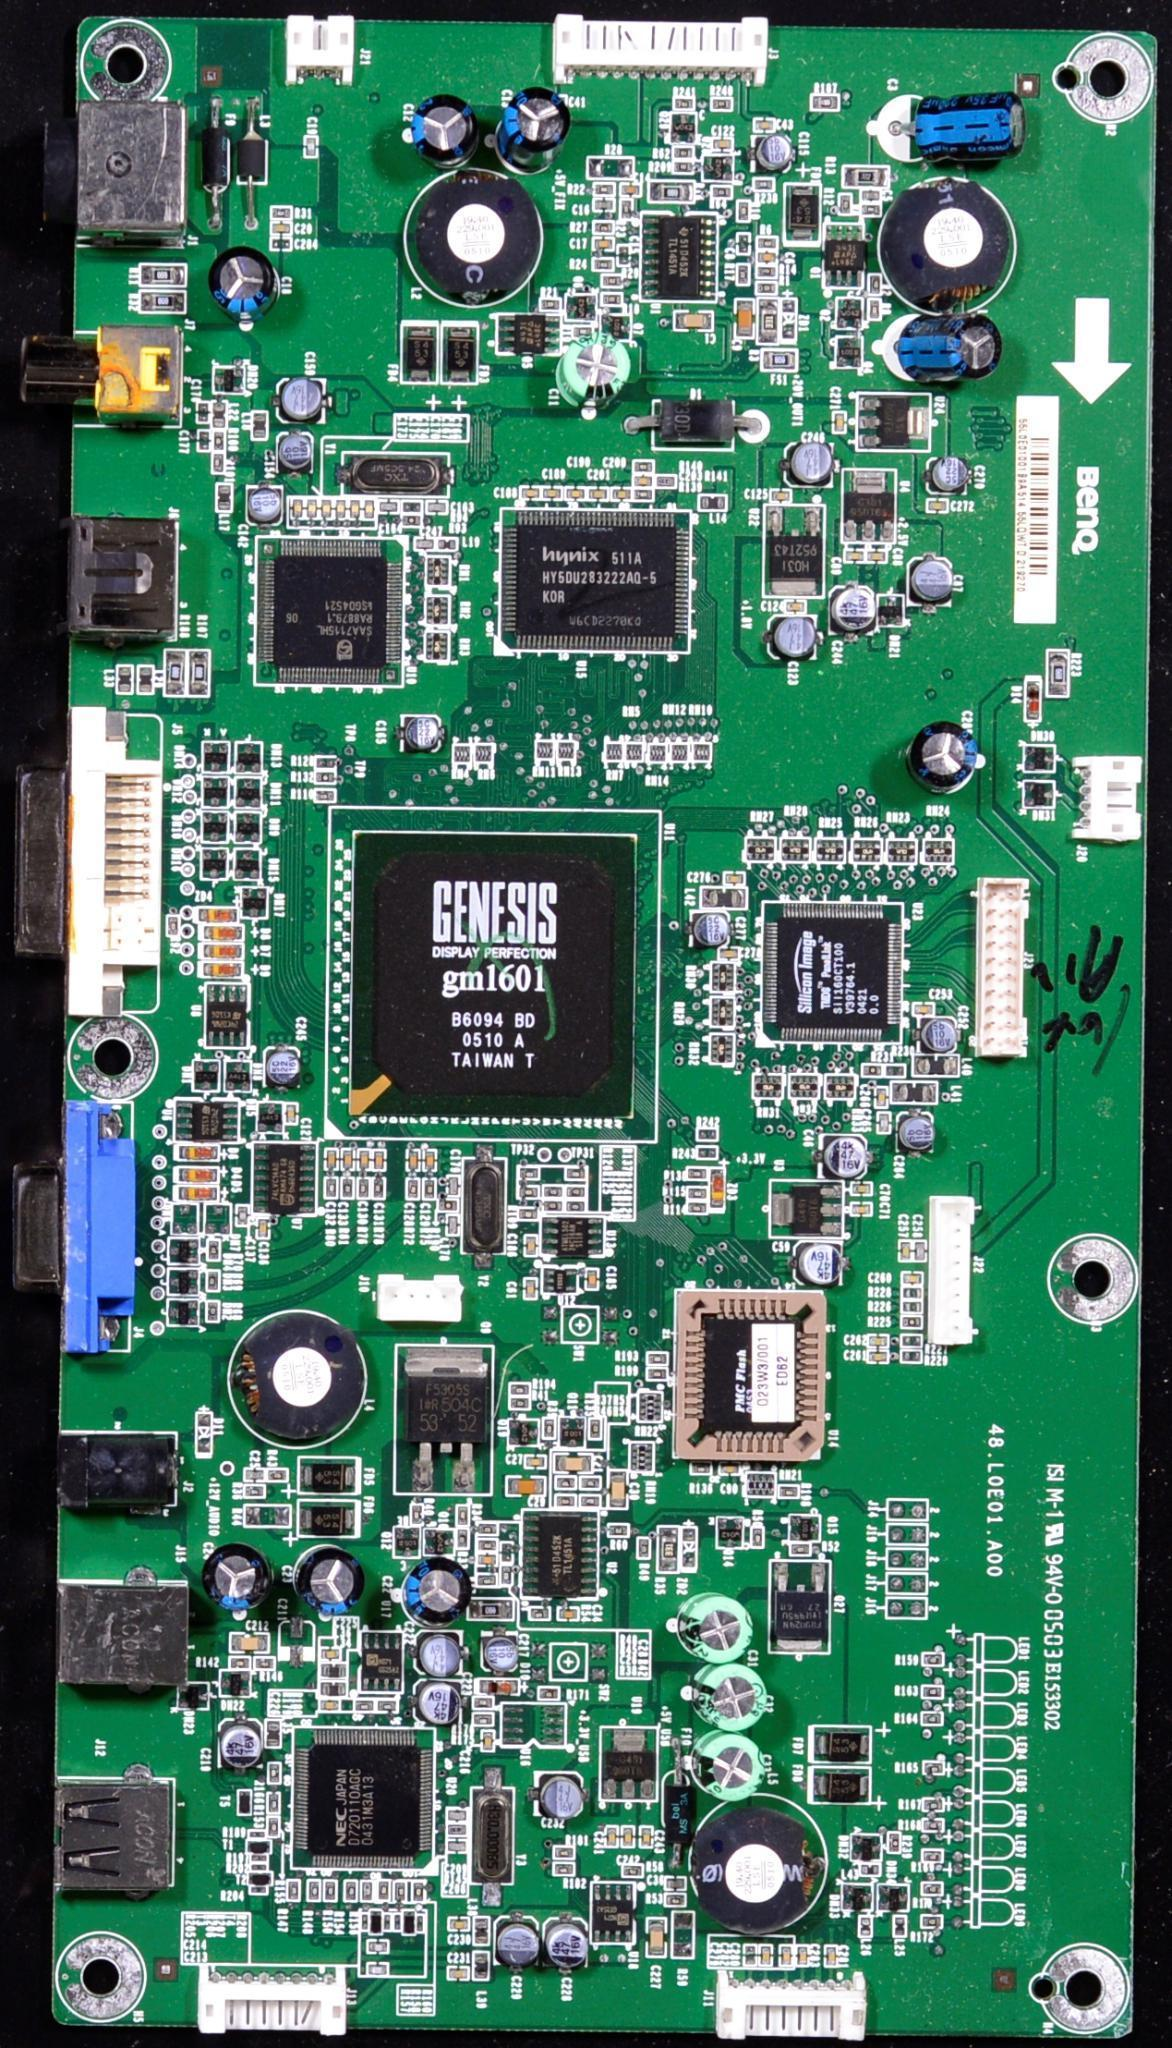Capacitor: (675, 310, 711, 330), (607, 1469, 625, 1507), (736, 300, 753, 339), (231, 1635, 267, 1651), (555, 1454, 592, 1470), (647, 1920, 663, 1955), (291, 1618, 302, 1666), (509, 1478, 542, 1494), (270, 237, 294, 250), (753, 118, 774, 133), (712, 136, 735, 150), (244, 1469, 266, 1482), (591, 237, 613, 250), (767, 488, 790, 502), (926, 499, 948, 513), (850, 1203, 872, 1216), (913, 1002, 933, 1016), (325, 1150, 339, 1170), (524, 1235, 537, 1255), (622, 1864, 641, 1878), (449, 1917, 468, 1931), (304, 136, 316, 157), (446, 1809, 467, 1822), (639, 1826, 652, 1847), (445, 1840, 466, 1852), (448, 1967, 469, 1979), (756, 251, 777, 263), (609, 487, 630, 500), (426, 501, 447, 514), (843, 550, 864, 563), (832, 413, 845, 432), (850, 1183, 870, 1196), (901, 1272, 920, 1284), (558, 1607, 578, 1619), (605, 1827, 617, 1847), (620, 183, 640, 195), (367, 1939, 387, 1953), (587, 487, 606, 499), (564, 486, 584, 500), (415, 537, 435, 550), (236, 1206, 248, 1226), (718, 1463, 739, 1474), (319, 1647, 340, 1659), (320, 1699, 340, 1710), (665, 1877, 683, 1891), (197, 402, 208, 424), (197, 431, 208, 452), (632, 475, 653, 486), (859, 189, 878, 201), (521, 486, 539, 499), (868, 550, 886, 563), (875, 1086, 887, 1106), (447, 1217, 458, 1236), (256, 1220, 268, 1239), (898, 1240, 909, 1260), (587, 1270, 598, 1290), (524, 1278, 535, 1298), (867, 1351, 886, 1362), (481, 1731, 492, 1751), (722, 873, 743, 883), (912, 1242, 923, 1261), (623, 1828, 634, 1847), (542, 486, 560, 498), (719, 948, 738, 958), (342, 1149, 352, 1169), (868, 1335, 888, 1345), (477, 1554, 497, 1564), (271, 223, 291, 233), (367, 1964, 384, 1975), (286, 1105, 296, 1124), (447, 1177, 457, 1195), (825, 1947, 835, 1965), (349, 499, 359, 517), (502, 1541, 511, 1563), (359, 1150, 368, 1168), (781, 1948, 791, 1965), (761, 1947, 769, 1965), (293, 498, 301, 516), (745, 1947, 754, 1964), (380, 502, 397, 511), (307, 501, 315, 518), (375, 1151, 382, 1170), (336, 500, 344, 519), (322, 499, 330, 515), (366, 502, 374, 517), (426, 1152, 434, 1169), (409, 1152, 416, 1168), (799, 1949, 805, 1964)
Connector: (69, 709, 164, 1016), (551, 14, 773, 84), (199, 1964, 348, 2038), (714, 1973, 863, 2043), (975, 875, 1029, 1057), (928, 1196, 981, 1345), (1073, 757, 1140, 839), (284, 13, 358, 84)
IC: (338, 824, 635, 1123), (501, 507, 688, 653), (255, 537, 403, 686), (295, 1728, 433, 1868), (764, 910, 887, 1035), (253, 1142, 314, 1214), (204, 981, 248, 1047), (176, 1099, 240, 1139), (362, 1630, 402, 1692)
Resistor: (673, 1912, 691, 1958), (246, 1508, 288, 1525), (810, 96, 839, 109), (686, 1185, 708, 1201), (555, 1476, 576, 1491), (696, 1147, 719, 1160), (632, 489, 654, 504), (476, 1538, 497, 1552), (593, 183, 614, 197), (271, 206, 292, 219), (899, 1302, 922, 1315), (736, 263, 749, 285), (876, 1112, 890, 1132), (206, 1270, 219, 1290), (206, 1301, 219, 1321), (267, 1469, 287, 1482), (674, 161, 693, 174), (735, 200, 748, 220), (755, 282, 775, 295), (315, 770, 335, 783), (883, 1065, 904, 1078), (422, 1178, 435, 1198), (373, 1177, 385, 1199), (900, 1335, 921, 1347), (790, 1543, 810, 1556), (353, 1699, 374, 1712), (269, 1763, 281, 1784), (266, 1794, 279, 1815), (755, 237, 776, 249), (592, 259, 613, 272), (581, 1495, 599, 1509), (672, 97, 695, 109), (684, 1166, 706, 1178), (901, 1351, 923, 1362), (672, 146, 695, 158), (696, 1128, 716, 1141), (902, 1288, 921, 1301), (205, 1300, 218, 1320), (647, 1352, 667, 1365), (691, 1461, 710, 1474), (779, 1484, 799, 1497), (554, 1493, 574, 1505), (839, 196, 851, 215), (756, 265, 775, 277), (655, 476, 676, 488), (357, 1178, 369, 1199), (327, 1178, 337, 1198), (407, 1178, 418, 1199), (686, 1201, 708, 1213), (208, 1239, 219, 1261), (901, 1316, 921, 1328), (588, 1417, 600, 1437), (526, 1455, 543, 1468), (537, 1686, 559, 1698), (472, 1697, 492, 1708), (472, 1713, 492, 1724), (888, 1832, 899, 1852), (601, 293, 622, 304), (211, 452, 223, 472), (316, 757, 338, 768), (510, 1397, 527, 1409), (500, 1564, 512, 1583), (710, 98, 730, 110), (439, 1199, 458, 1209), (475, 1523, 495, 1534), (608, 1526, 628, 1537), (475, 1575, 495, 1586), (378, 1699, 398, 1711), (267, 1816, 279, 1836), (922, 1850, 941, 1861), (594, 221, 613, 232), (212, 430, 224, 450), (342, 1178, 352, 1199), (542, 1417, 552, 1438), (244, 1487, 264, 1496), (639, 1538, 649, 1559), (230, 1657, 250, 1667), (601, 275, 622, 286), (863, 1064, 881, 1075), (566, 1201, 584, 1212), (510, 1384, 528, 1396), (529, 1607, 548, 1618), (923, 1654, 941, 1665), (447, 1824, 466, 1836), (753, 179, 771, 190), (923, 1914, 941, 1926), (167, 917, 177, 937), (646, 1367, 666, 1377), (254, 1658, 274, 1668), (923, 1686, 943, 1696), (712, 186, 731, 196), (921, 1713, 939, 1724), (567, 1186, 585, 1196), (579, 1477, 598, 1487), (923, 1820, 941, 1830), (555, 1847, 572, 1857), (251, 1853, 269, 1862), (554, 1864, 572, 1874), (309, 1881, 319, 1899), (633, 461, 652, 471), (315, 790, 334, 801), (924, 1763, 940, 1774), (924, 1799, 940, 1810), (544, 1201, 562, 1211), (922, 1884, 939, 1893), (288, 1880, 298, 1898), (378, 1882, 388, 1899), (346, 1883, 356, 1900), (362, 1884, 371, 1901), (566, 1169, 584, 1178), (544, 1187, 563, 1196), (249, 1830, 267, 1838), (249, 1886, 267, 1895), (326, 1882, 336, 1898), (520, 1187, 537, 1195), (413, 1884, 422, 1901), (252, 1861, 268, 1869), (395, 1883, 404, 1899), (519, 1209, 535, 1217), (522, 1170, 536, 1178), (362, 1914, 367, 1928), (383, 1916, 389, 1929), (419, 1915, 423, 1930), (395, 1915, 399, 1928)
Transistor: (764, 507, 821, 593), (767, 1180, 844, 1239), (601, 1725, 658, 1800), (842, 470, 893, 541), (859, 396, 926, 449), (495, 315, 558, 355), (823, 223, 861, 287), (541, 1267, 578, 1294), (840, 1883, 871, 1913), (876, 1884, 909, 1912), (166, 1238, 200, 1264), (850, 1835, 882, 1863), (789, 1513, 819, 1541), (564, 292, 594, 320), (837, 336, 863, 368), (602, 314, 632, 340), (167, 1269, 198, 1294), (717, 1516, 741, 1548), (877, 594, 900, 626), (509, 1418, 537, 1444), (670, 112, 695, 142), (836, 297, 861, 327), (193, 1059, 217, 1090), (167, 1300, 198, 1324), (559, 1416, 583, 1447), (224, 1062, 249, 1090), (258, 1103, 281, 1132), (240, 888, 265, 917), (236, 778, 260, 806), (234, 813, 257, 841), (203, 778, 227, 805), (235, 849, 259, 877), (204, 743, 227, 769), (202, 814, 225, 841), (202, 849, 225, 877), (237, 745, 260, 770)
